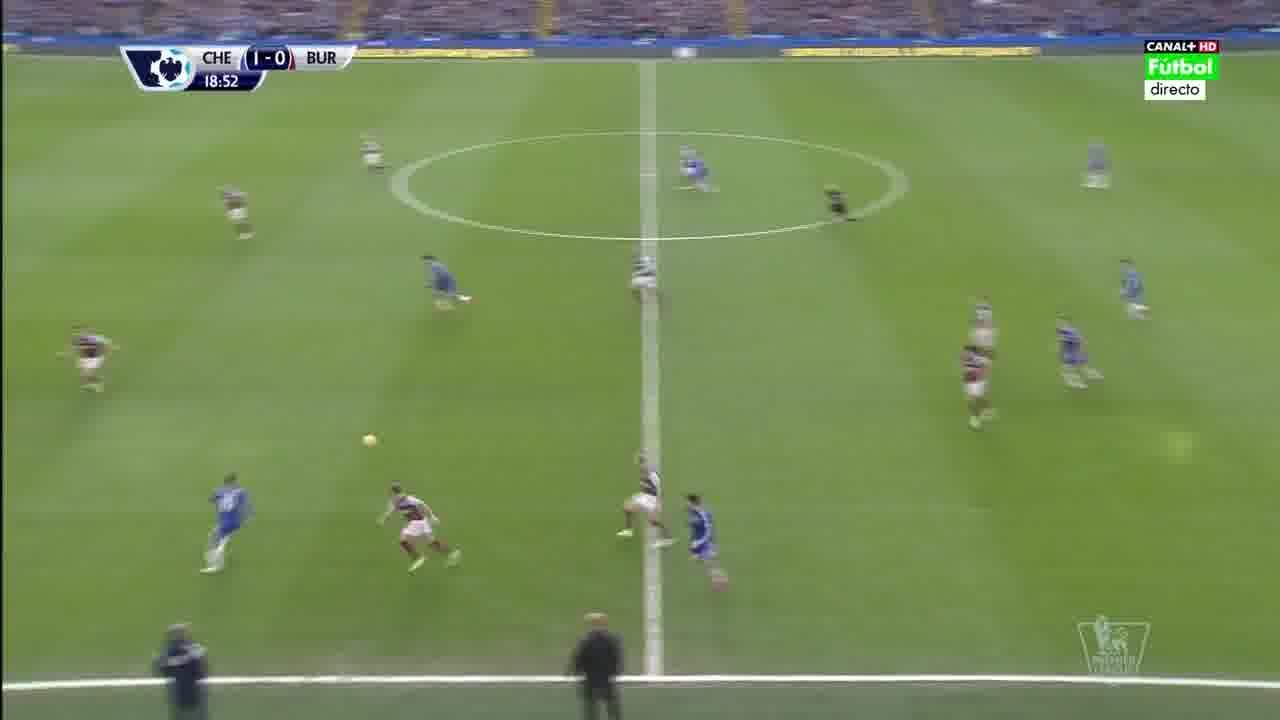football: (361, 433, 377, 448)
